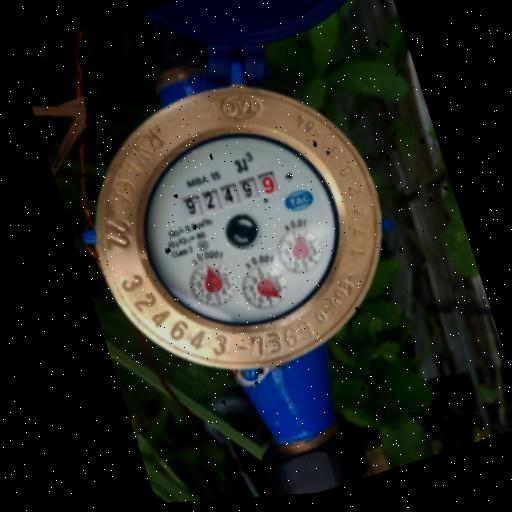2: (202, 189, 221, 212)
4: (221, 181, 241, 207)
9: (184, 193, 203, 219), (260, 172, 278, 196), (241, 178, 259, 201)
border_water_meter_number: (175, 163, 287, 227)
